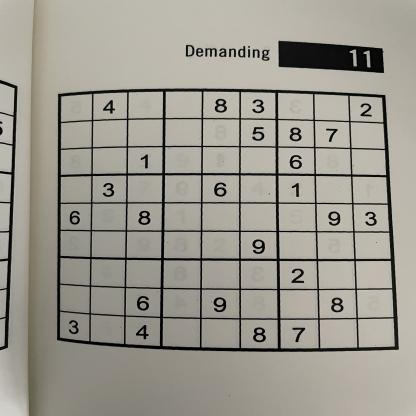sudoku: (53, 86, 403, 354)
